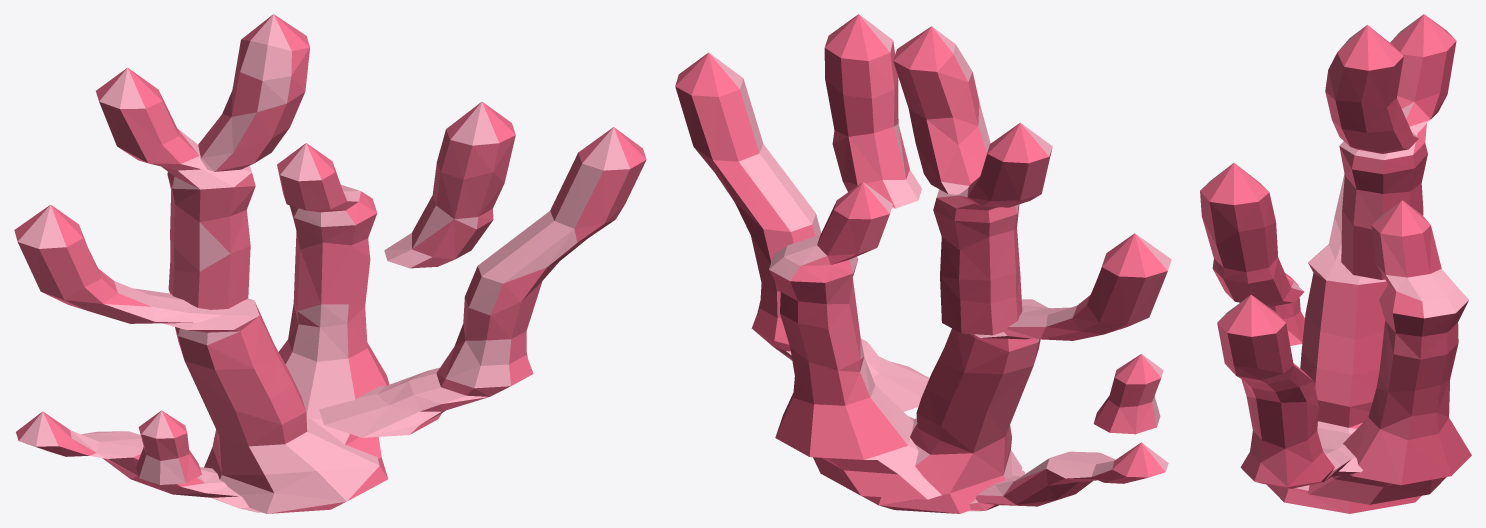
Rendered from MB_BranchCoral_LOD.fbx.
3 views of the same model, side by side, from view 1: azimuth 30°, elevation 25°; view 2: azimuth 150°, elevation 25°; view 3: azimuth 270°, elevation 25° (orthographic). The views are drawn at different scales.
Parts seen in each view (by area): view 1: BranchCoral; view 2: BranchCoral; view 3: BranchCoral.
Boxes of the visible parts, x1,y1,x2,y2 form: BranchCoral: [14, 14, 646, 513]; BranchCoral: [675, 14, 1171, 513]; BranchCoral: [1200, 14, 1471, 513].
Bounding box in the file's own units: 965 × 759 × 417.
Materials: 1 (1 with a texture image).
